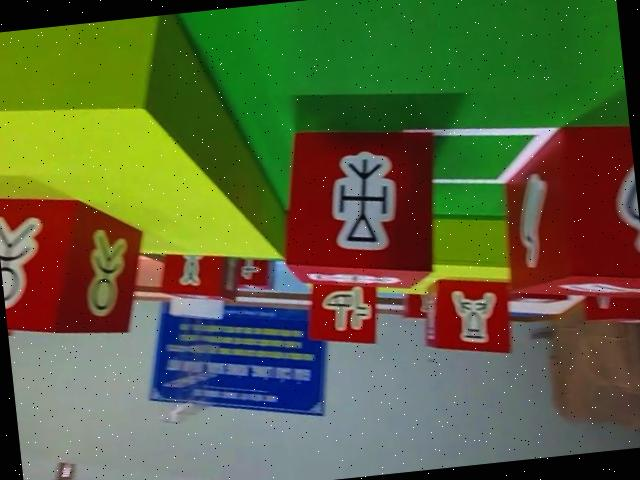R2 Real: (270, 113, 451, 304), (491, 117, 640, 310), (0, 178, 152, 349), (416, 272, 521, 366), (299, 275, 386, 349)
